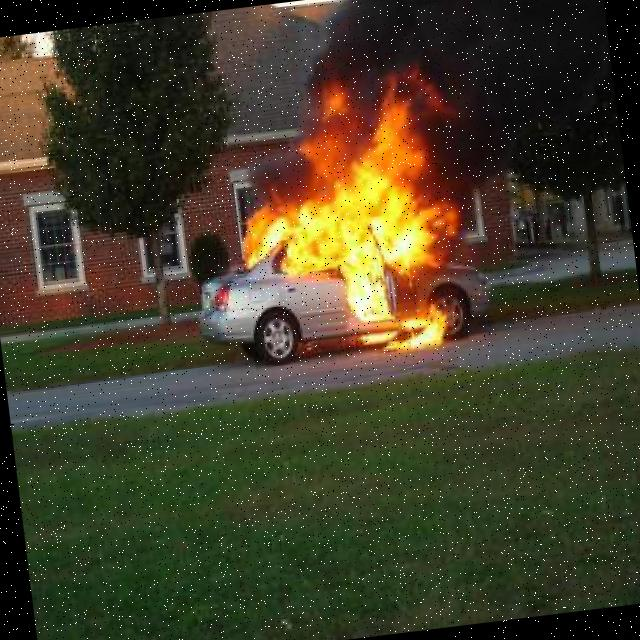fire: (225, 102, 470, 382)
